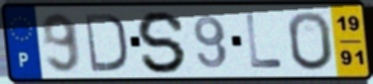9: (40, 11, 82, 75), (191, 14, 228, 70)
D: (83, 11, 130, 74)
L: (243, 13, 285, 71)
O: (285, 9, 336, 73)
S: (135, 9, 190, 75)
